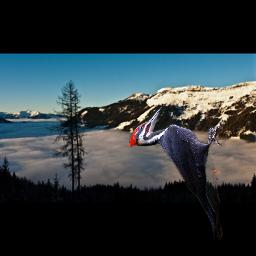Woodpecker: (129, 107, 224, 241)
